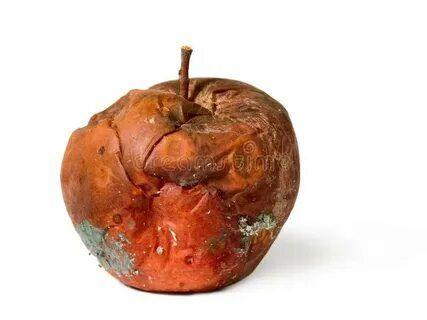Apple: (64, 79, 300, 294)
